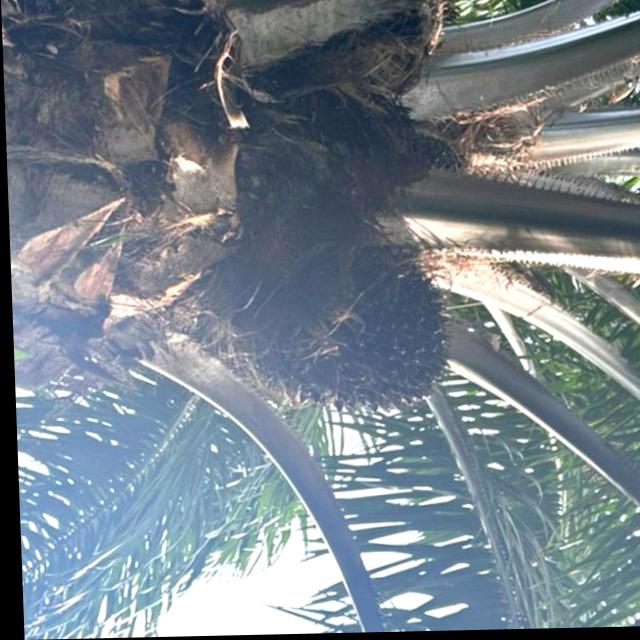almost: (249, 243, 456, 412)
